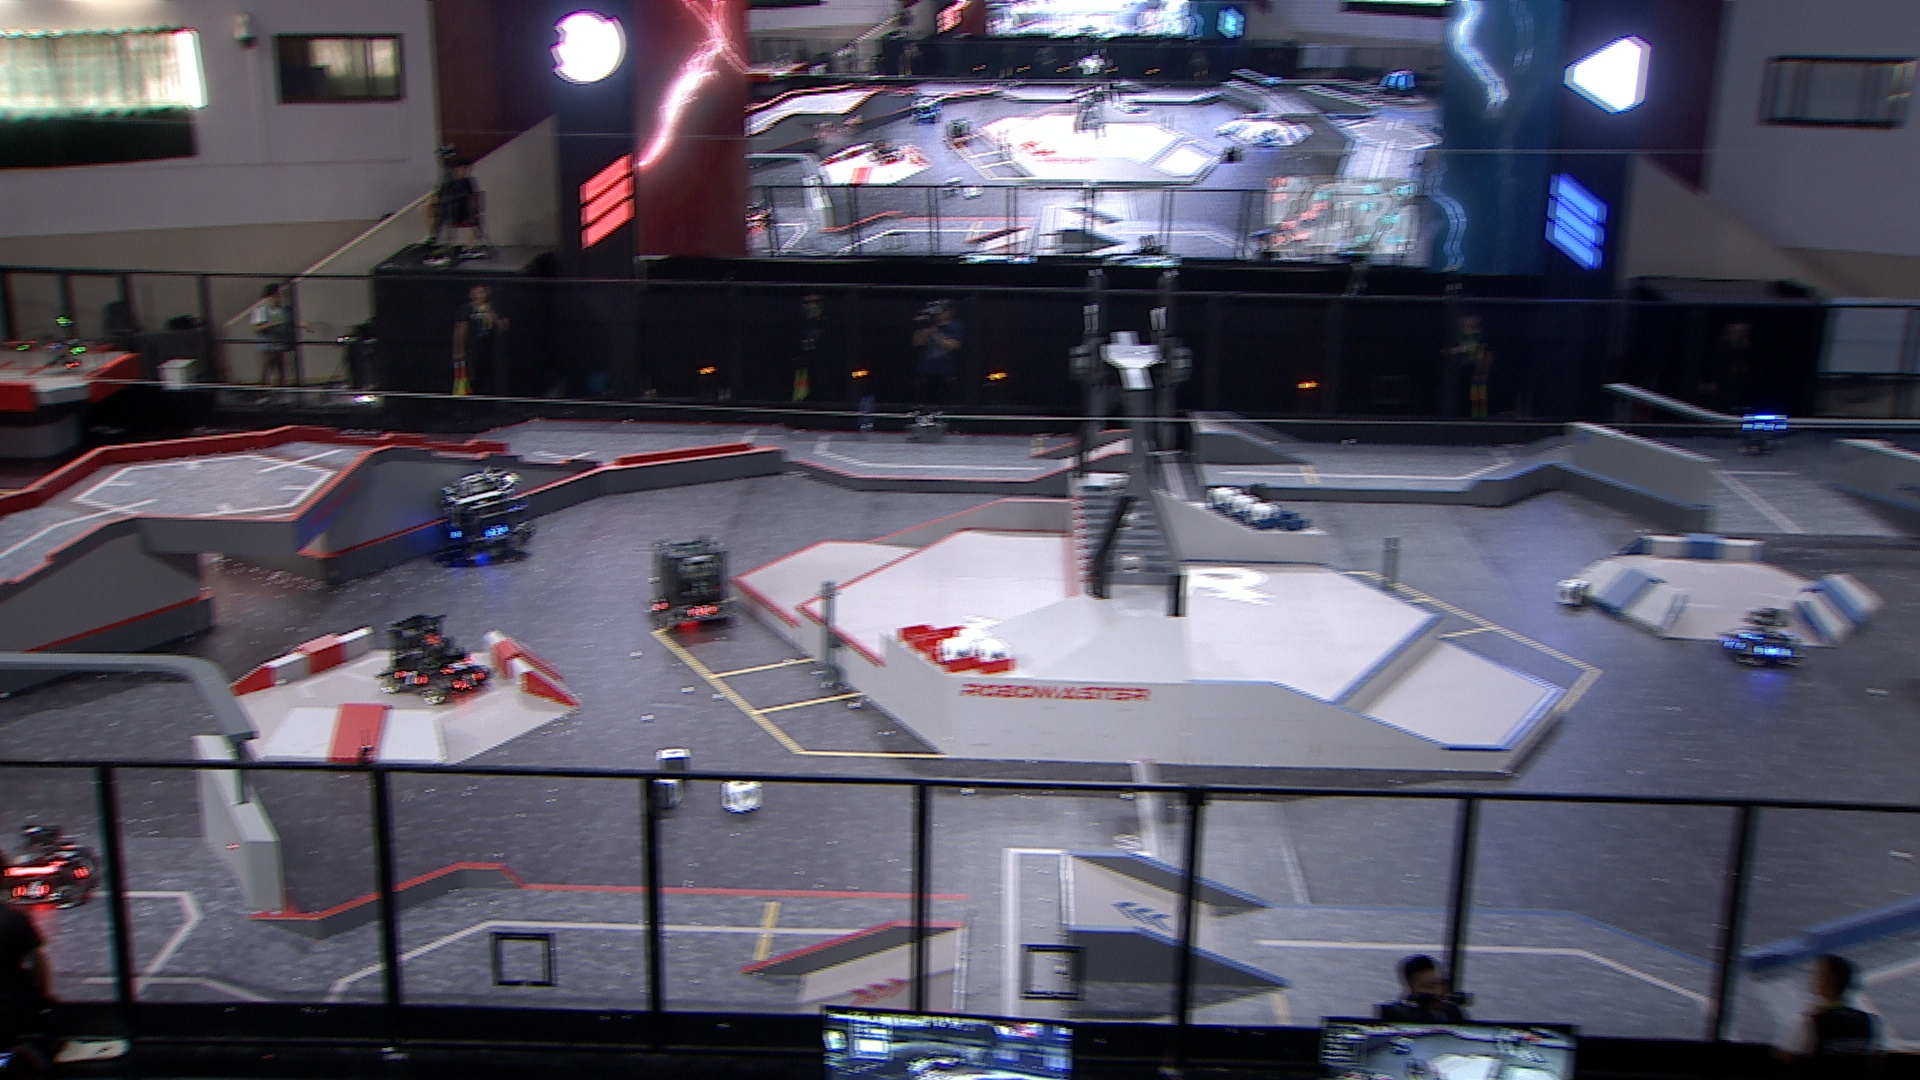armor: (1746, 411, 1785, 434), (15, 880, 49, 899), (455, 666, 487, 687), (645, 595, 671, 618), (1735, 629, 1768, 646), (394, 666, 425, 684), (53, 840, 74, 865), (442, 655, 465, 675), (1760, 647, 1788, 661), (1722, 636, 1741, 655), (78, 858, 98, 876), (694, 603, 716, 615), (487, 522, 506, 535), (446, 524, 462, 537)
car: (375, 609, 496, 700), (433, 462, 535, 566), (640, 537, 741, 637), (1720, 603, 1807, 675)
ignore: (911, 96, 945, 129), (1381, 65, 1414, 98), (945, 117, 977, 150), (745, 199, 773, 233), (869, 138, 902, 166), (1258, 74, 1287, 92)
watcher: (1731, 396, 1793, 465)
